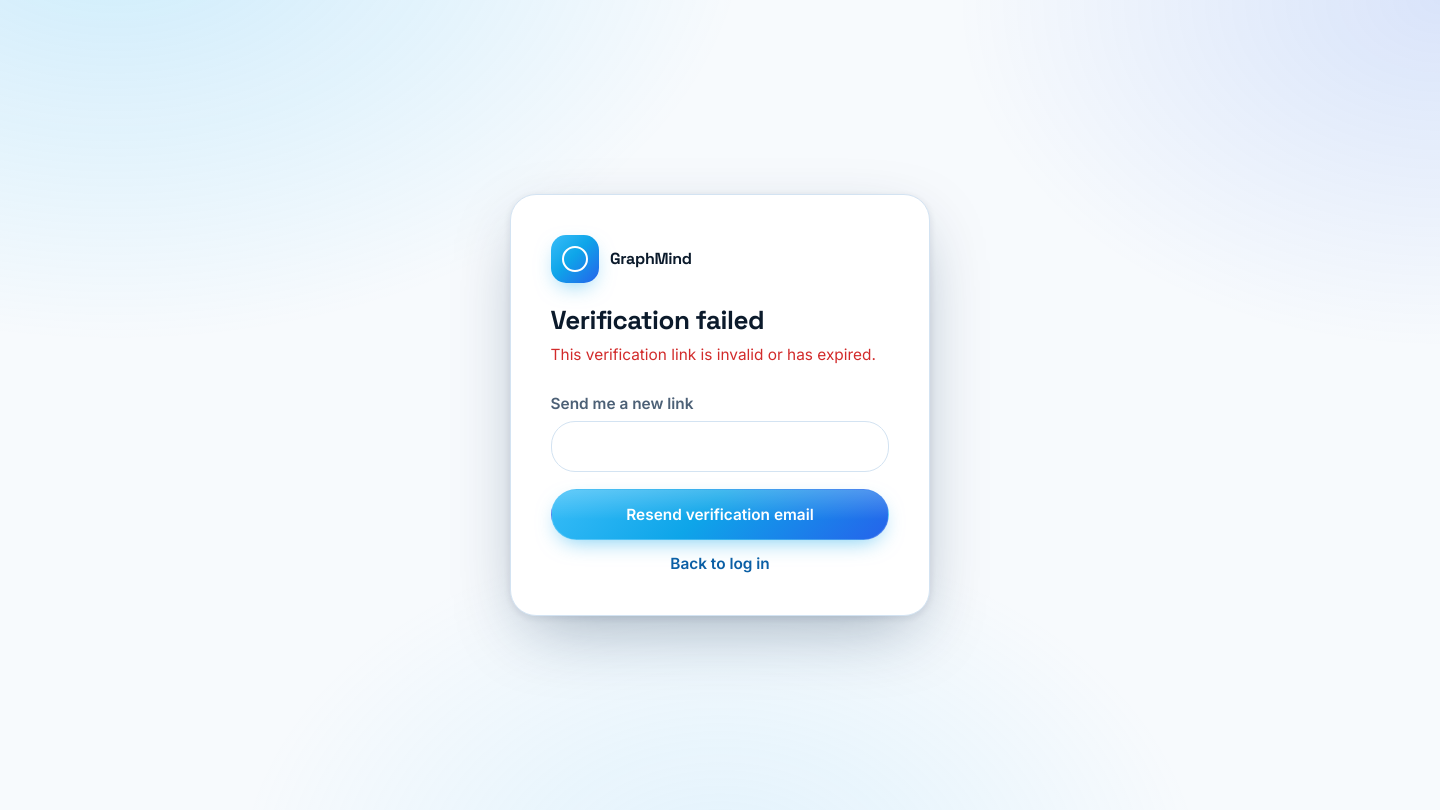
Test: VerifyEmailPage › shows the failure message and a resend form when verification fails
Check: the message reads "This verification link is invalid or has expired.", box [551,345,876,364]
Type "maria@example.com" into the field labelled "Send me a new link" at (720, 447), box [551,421,889,472]
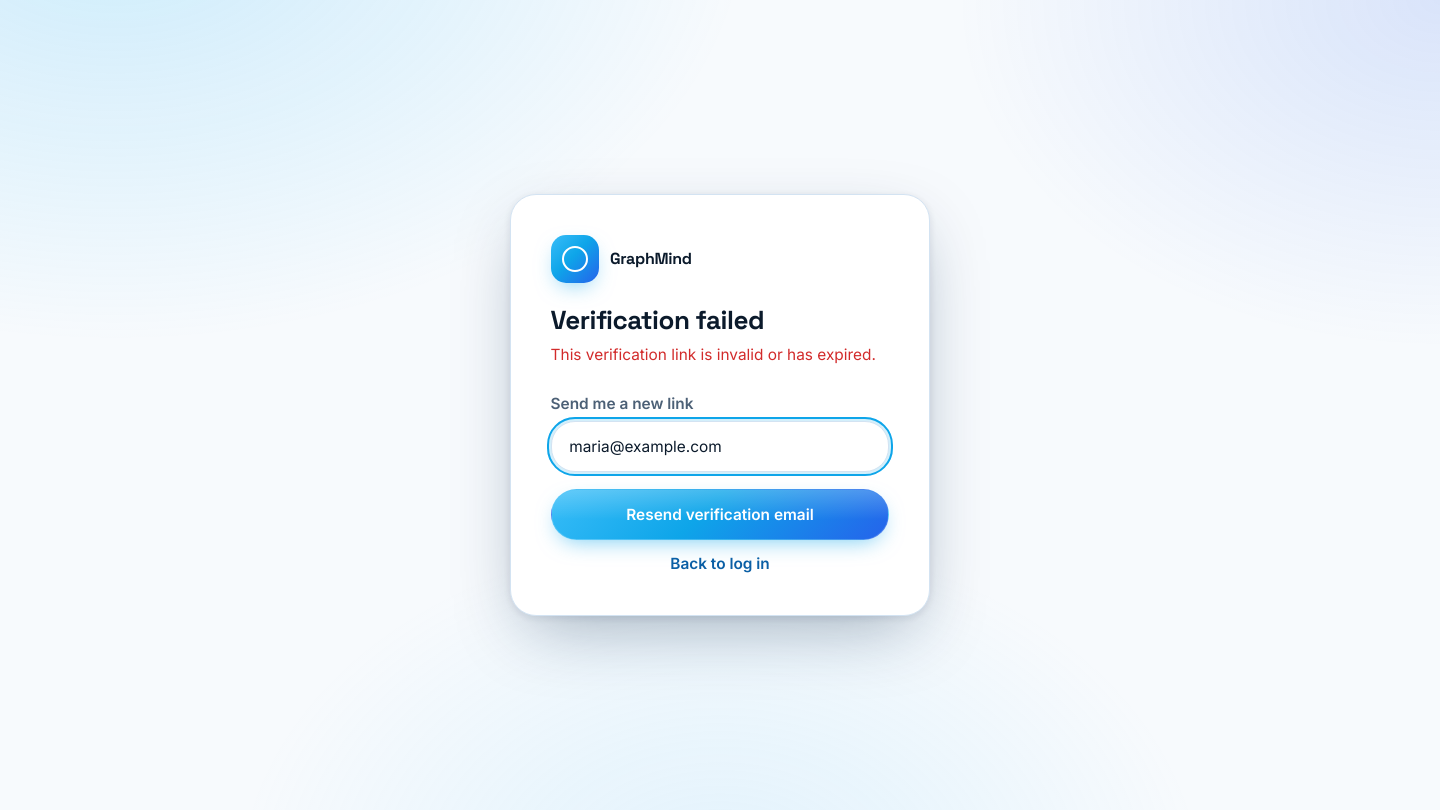
Click the button "Resend verification email" at (720, 515), box [551,489,889,540]
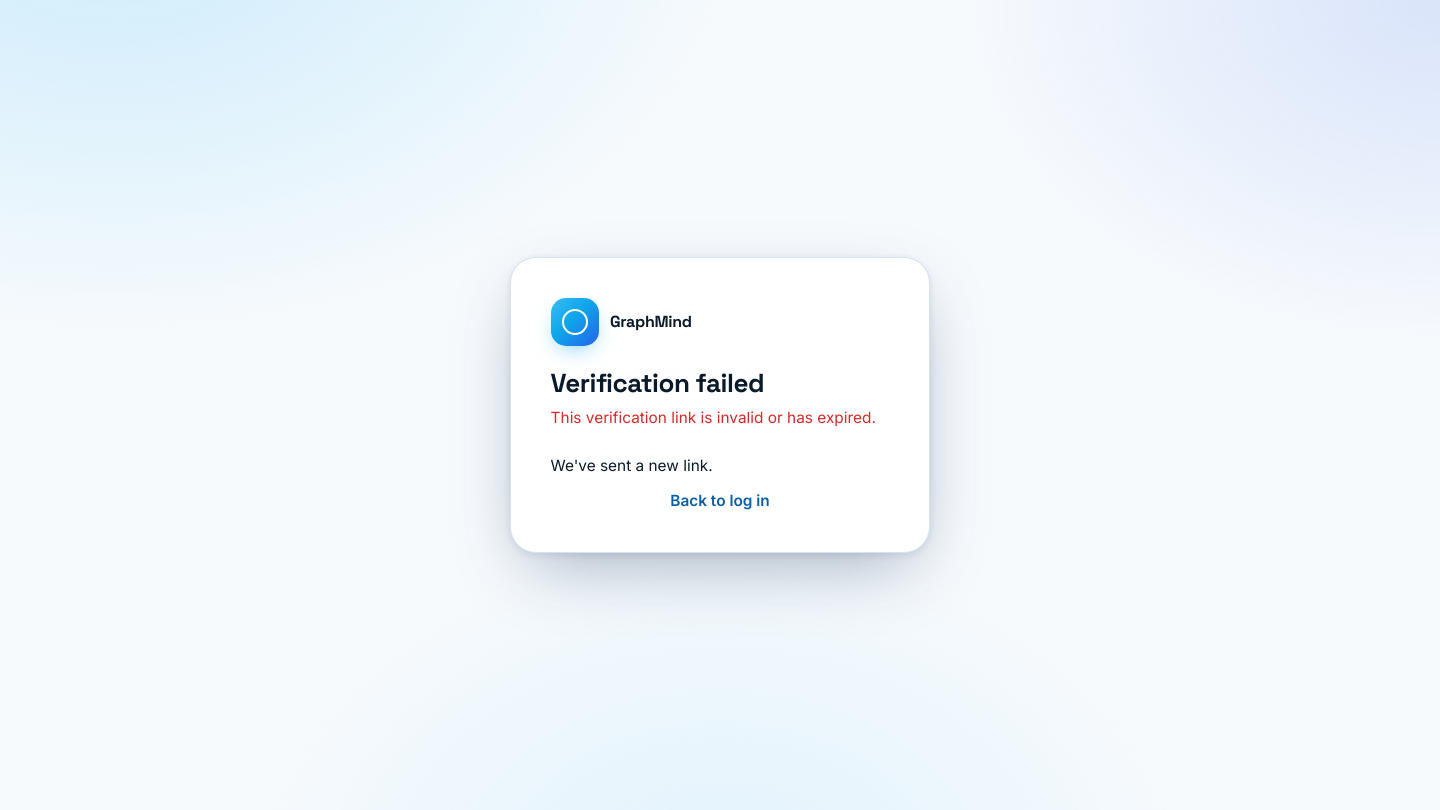
Check: the text "We've sent a new link." is shown, box [551,456,713,475]
